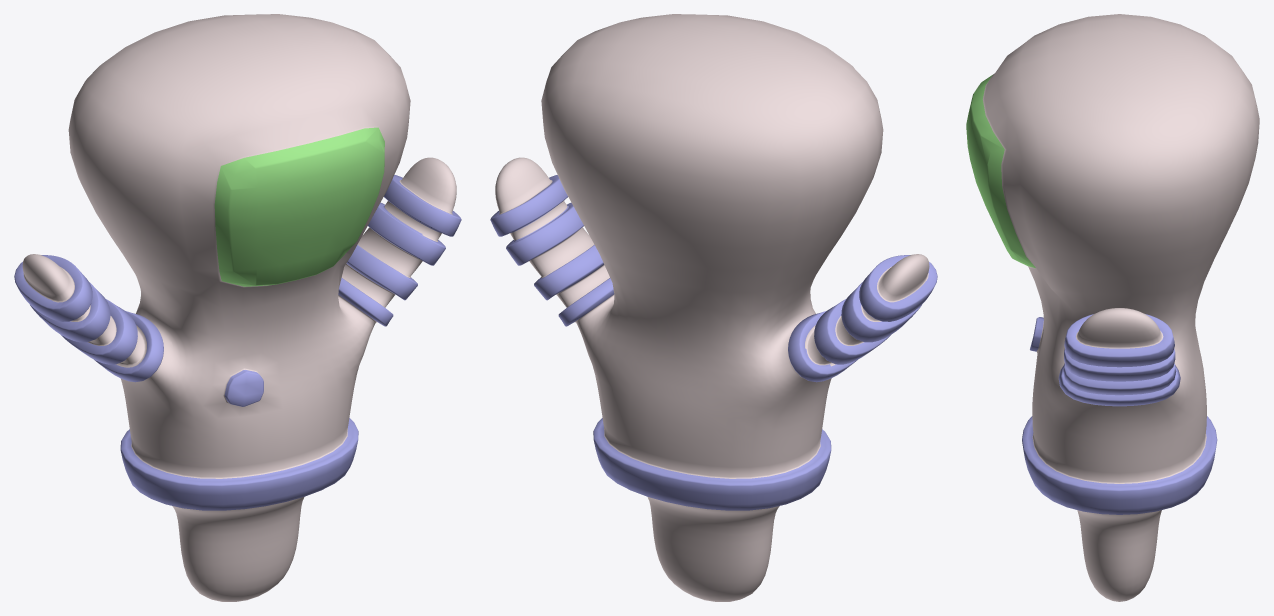
File: SmallMonster2.fbx
3 views of the same model, side by side, from view 1: azimuth 30°, elevation 25°; view 2: azimuth 150°, elevation 25°; view 3: azimuth 270°, elevation 25° (orthographic). The views are drawn at different scales.
Visible parts, largest first — view 1: Cube.001; view 2: Cube.001; view 3: Cube.001.
Part boxes in pixels (x1=…): Cube.001: x1=14, y1=14, x2=461, y2=601; Cube.001: x1=490, y1=14, x2=937, y2=601; Cube.001: x1=966, y1=14, x2=1259, y2=601.
Bounding box in the file's own units: 0.5818 × 0.7439 × 0.3627.
